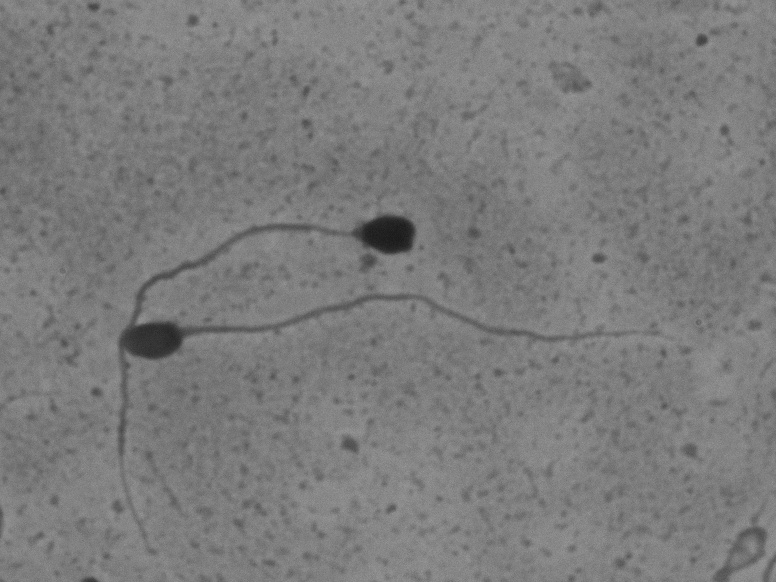Abnormal: (109, 198, 425, 559)
Normal: (123, 282, 684, 368)
